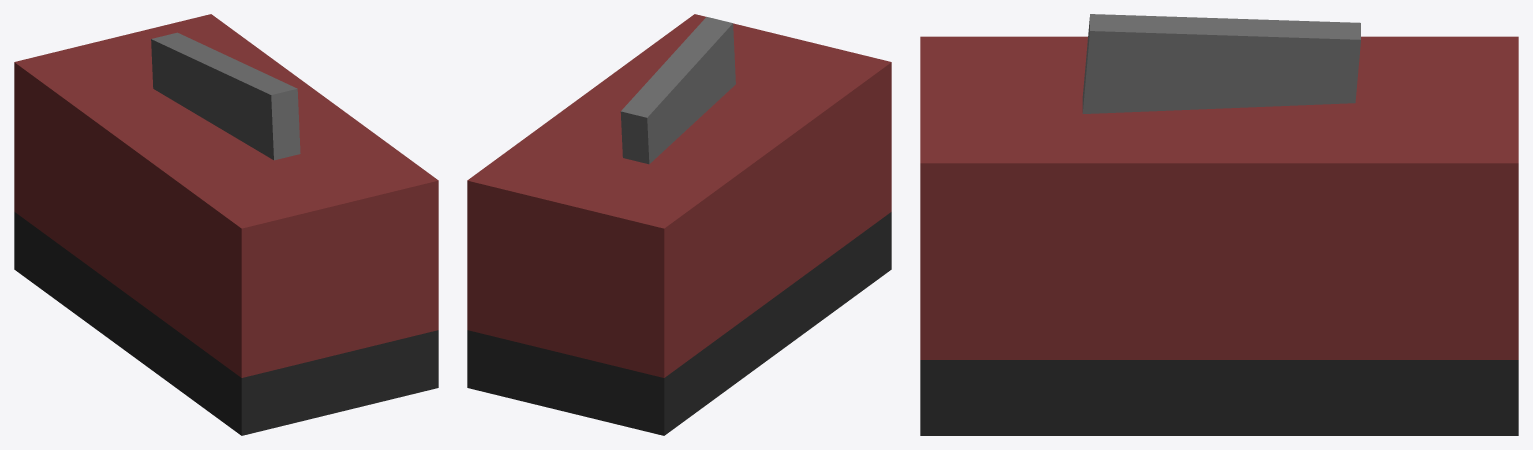
The model's file is Toolbox_LOD-1.fbx.
3 renders of one model, left to right at view 1: azimuth 30°, elevation 25°; view 2: azimuth 150°, elevation 25°; view 3: azimuth 270°, elevation 25°, orthographic. The views are drawn at different scales.
Visible parts, largest first — view 1: ToolBox_LOD-1; view 2: ToolBox_LOD-1; view 3: ToolBox_LOD-1.
Part boxes in pixels (left/top/right/bottom): ToolBox_LOD-1: left=14, top=14, right=438, bottom=435; ToolBox_LOD-1: left=467, top=14, right=891, bottom=435; ToolBox_LOD-1: left=920, top=14, right=1518, bottom=435.
Bounding box in the file's own units: 50 × 65.59 × 100.
